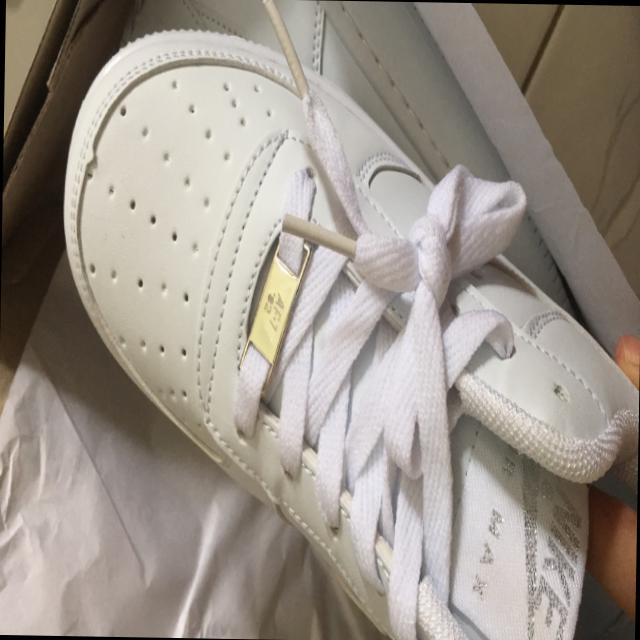nike fake air force: (52, 20, 640, 640)
